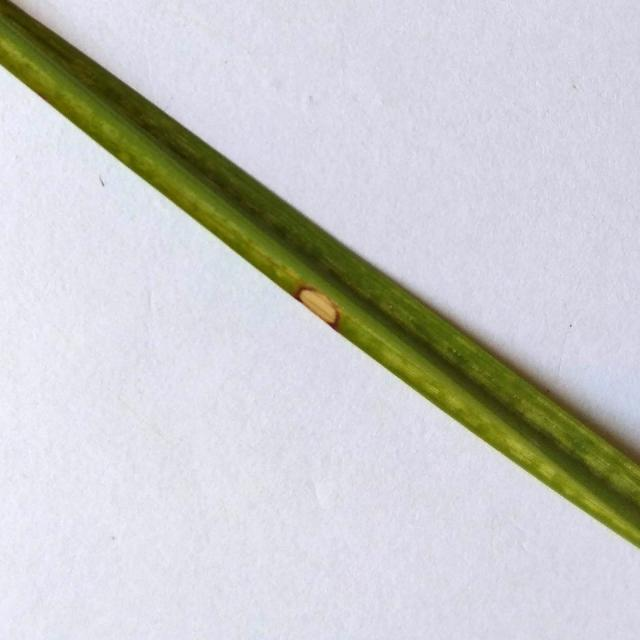Leaf blast: (0, 3, 640, 553)
